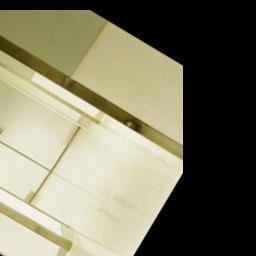Puerta: (0, 69, 82, 207)
